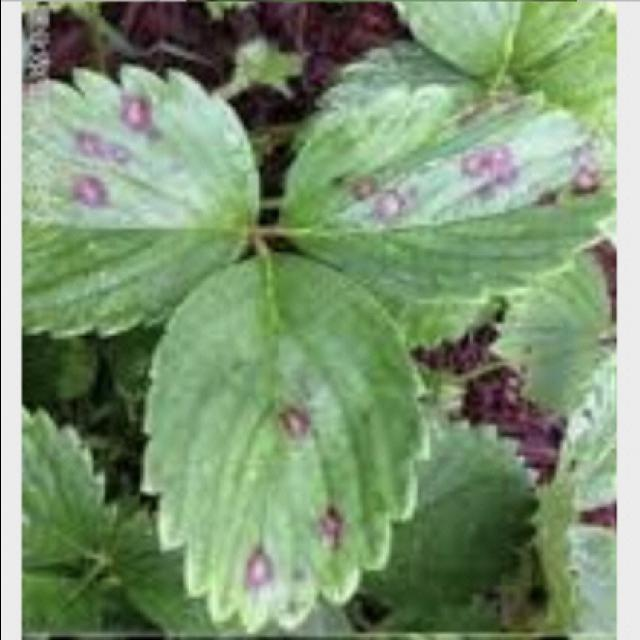Leaf Spot: (139, 255, 430, 635), (272, 39, 616, 304), (20, 60, 263, 341)
